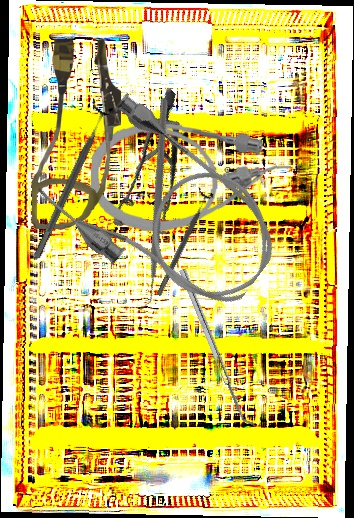Cannula: (29, 85, 299, 339), (88, 118, 293, 239), (32, 39, 121, 229)
Chopper: (53, 96, 249, 314)
Fixation Ring: (24, 98, 117, 264), (150, 187, 215, 299)
Spatula Surgical: (179, 265, 256, 432)
Speculum: (72, 87, 242, 256)
